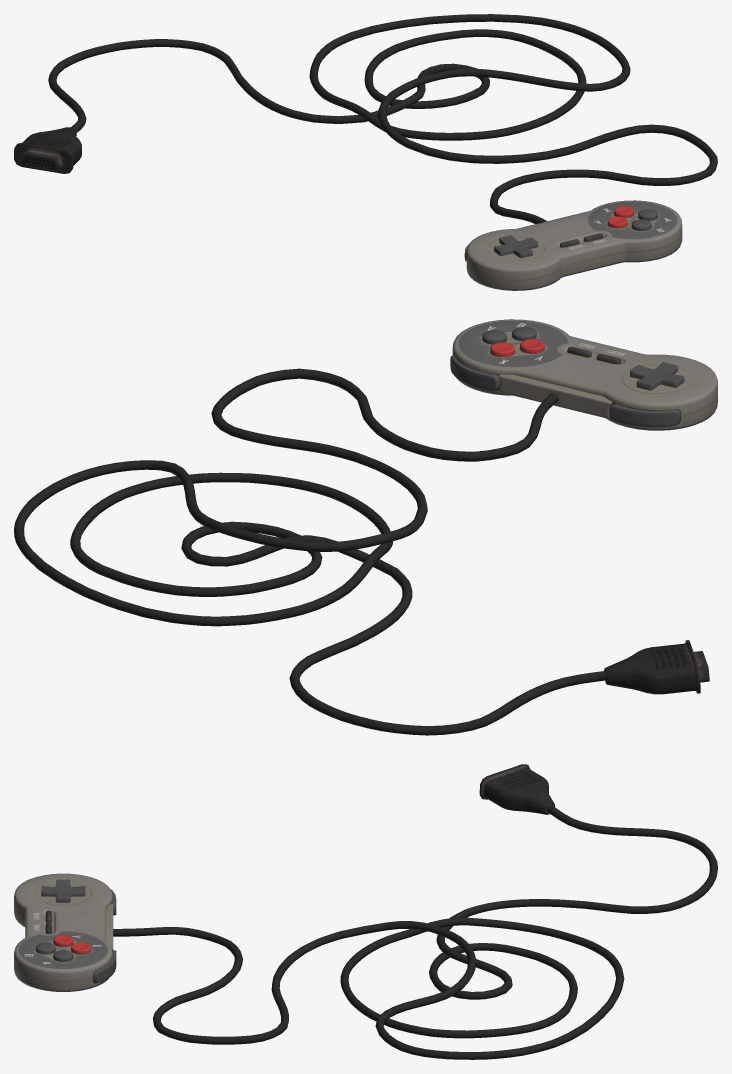
Rendered from gamepad.glb.
3 views of the same model, one above another, from view 1: azimuth 30°, elevation 25°; view 2: azimuth 150°, elevation 25°; view 3: azimuth 270°, elevation 25° (orthographic). The views are drawn at different scales.
Parts seen in each view (by area): view 1: gamepad; view 2: gamepad; view 3: gamepad.
Boxes of the visible parts, x1,y1,x2,y2 form: gamepad: (14,14,717,290); gamepad: (14,319,717,735); gamepad: (14,764,717,1059).
Bounding box in the file's own units: 0.4041 × 0.0189 × 0.435.
Materials: 1 (1 with a texture image).
